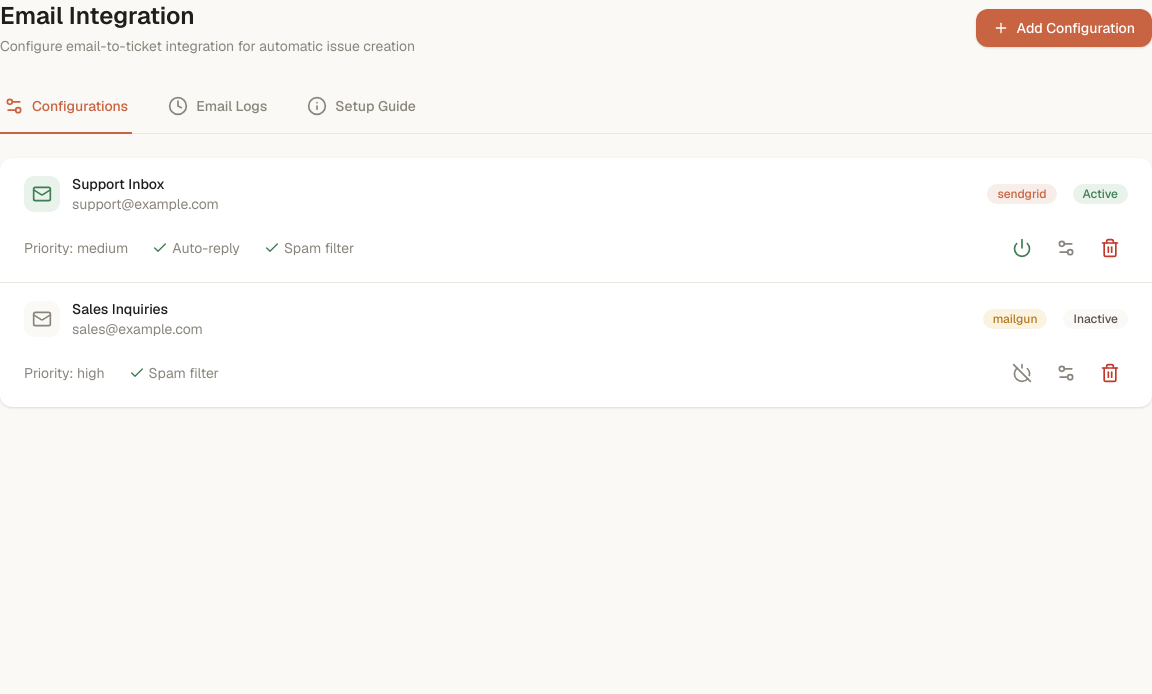
it: EmailIntegrationPage › Setup Guide Tab › switches to setup guide tab
The width and height of the screenshot is (1152, 694).
What coordinates should you click on to do the following:
click the button "Setup Guide"
I would click on:
 (362, 107)
Its box is [303,80,420,134].
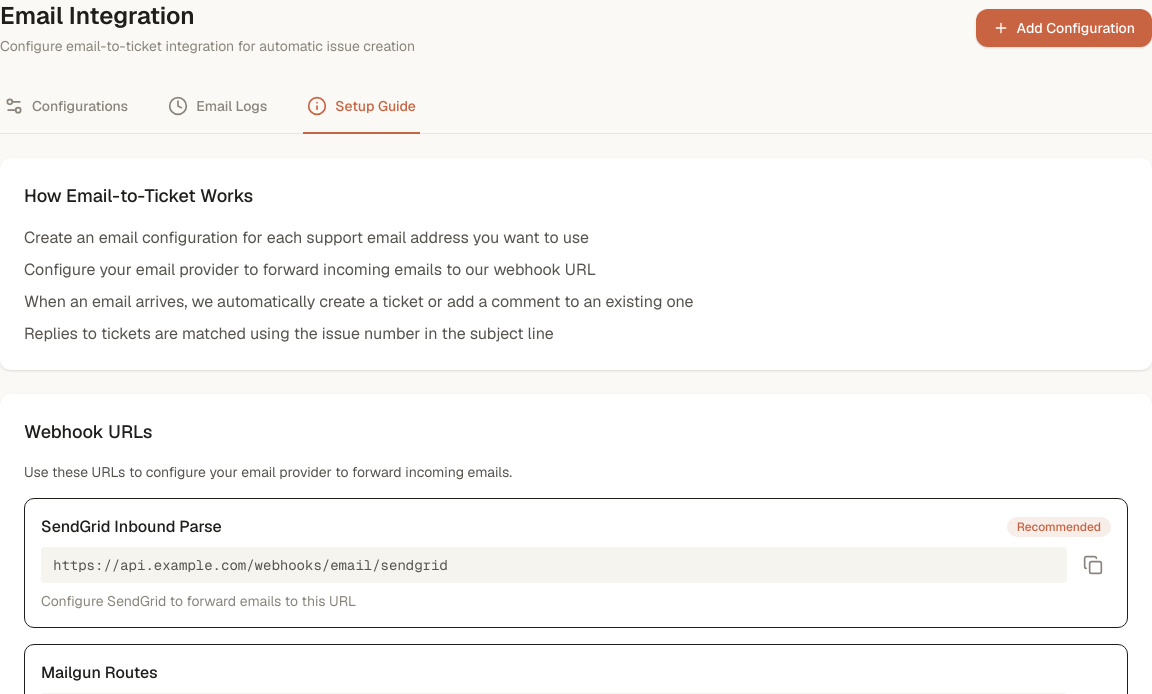
Now the heading "How Email-to-Ticket Works" is shown, box [24,184,253,207]
